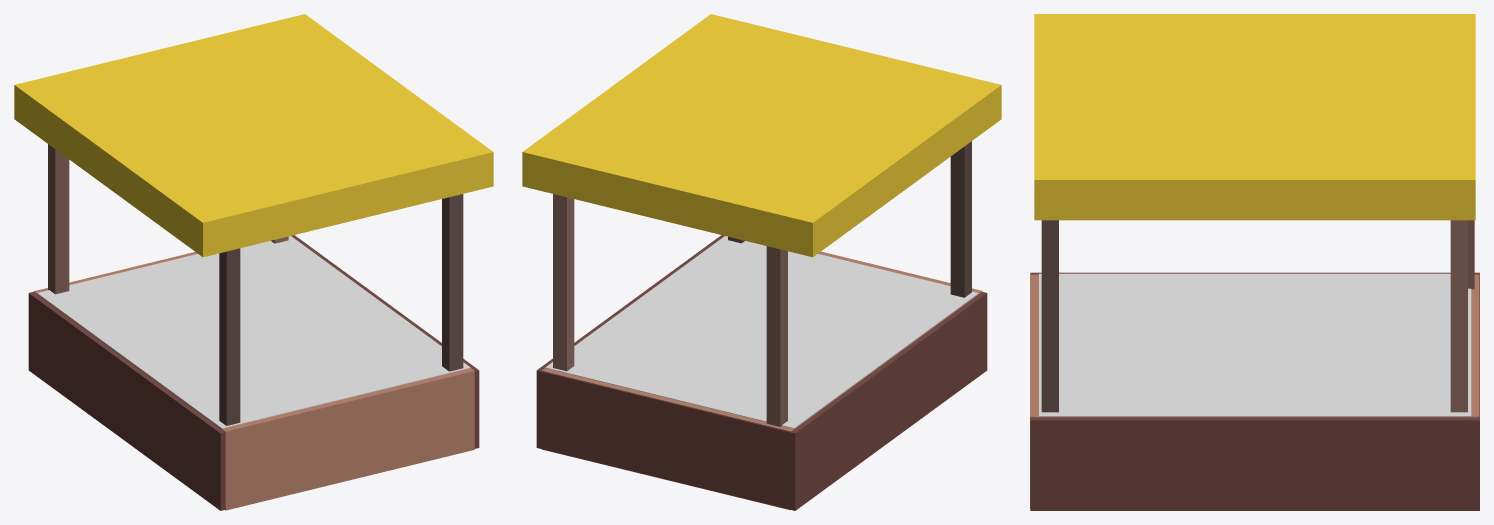
File: tent.glb
3 views of the same model, side by side, from view 1: azimuth 30°, elevation 25°; view 2: azimuth 150°, elevation 25°; view 3: azimuth 270°, elevation 25° (orthographic). The views are drawn at different scales.
Parts seen in each view (by area): view 1: Cube.005, Cube.006-noimp, Cube.008, Cube, Cube.001, Cube.002, Cube.004; view 2: Cube.005, Cube.006-noimp, Cube, Cube.004, Cube.003, Cube.002, Cube.008; view 3: Cube.005, Cube.006-noimp, Cube, Cube.008, Cube.001, Cube.003.
Boxes of the visible parts, x1,y1,x2,y2 form: Cube.005: [14, 14, 493, 257]; Cube.006-noimp: [37, 236, 470, 428]; Cube.008: [33, 252, 474, 510]; Cube: [28, 235, 479, 510]; Cube.001: [442, 194, 463, 371]; Cube.002: [219, 248, 240, 425]; Cube.004: [48, 144, 69, 294]; Cube.005: [522, 14, 1001, 257]; Cube.006-noimp: [545, 236, 978, 428]; Cube: [536, 235, 987, 510]; Cube.004: [766, 246, 787, 426]; Cube.003: [553, 194, 574, 371]; Cube.002: [950, 141, 971, 297]; Cube.008: [541, 251, 982, 510]; Cube.005: [1034, 14, 1475, 220]; Cube.006-noimp: [1039, 273, 1471, 416]; Cube: [1030, 272, 1479, 510]; Cube.008: [1030, 274, 1479, 508]; Cube.001: [1041, 220, 1058, 412]; Cube.003: [1450, 220, 1467, 412].
Size of the model in its own units: 3.14 by 3.01 by 3.6.
